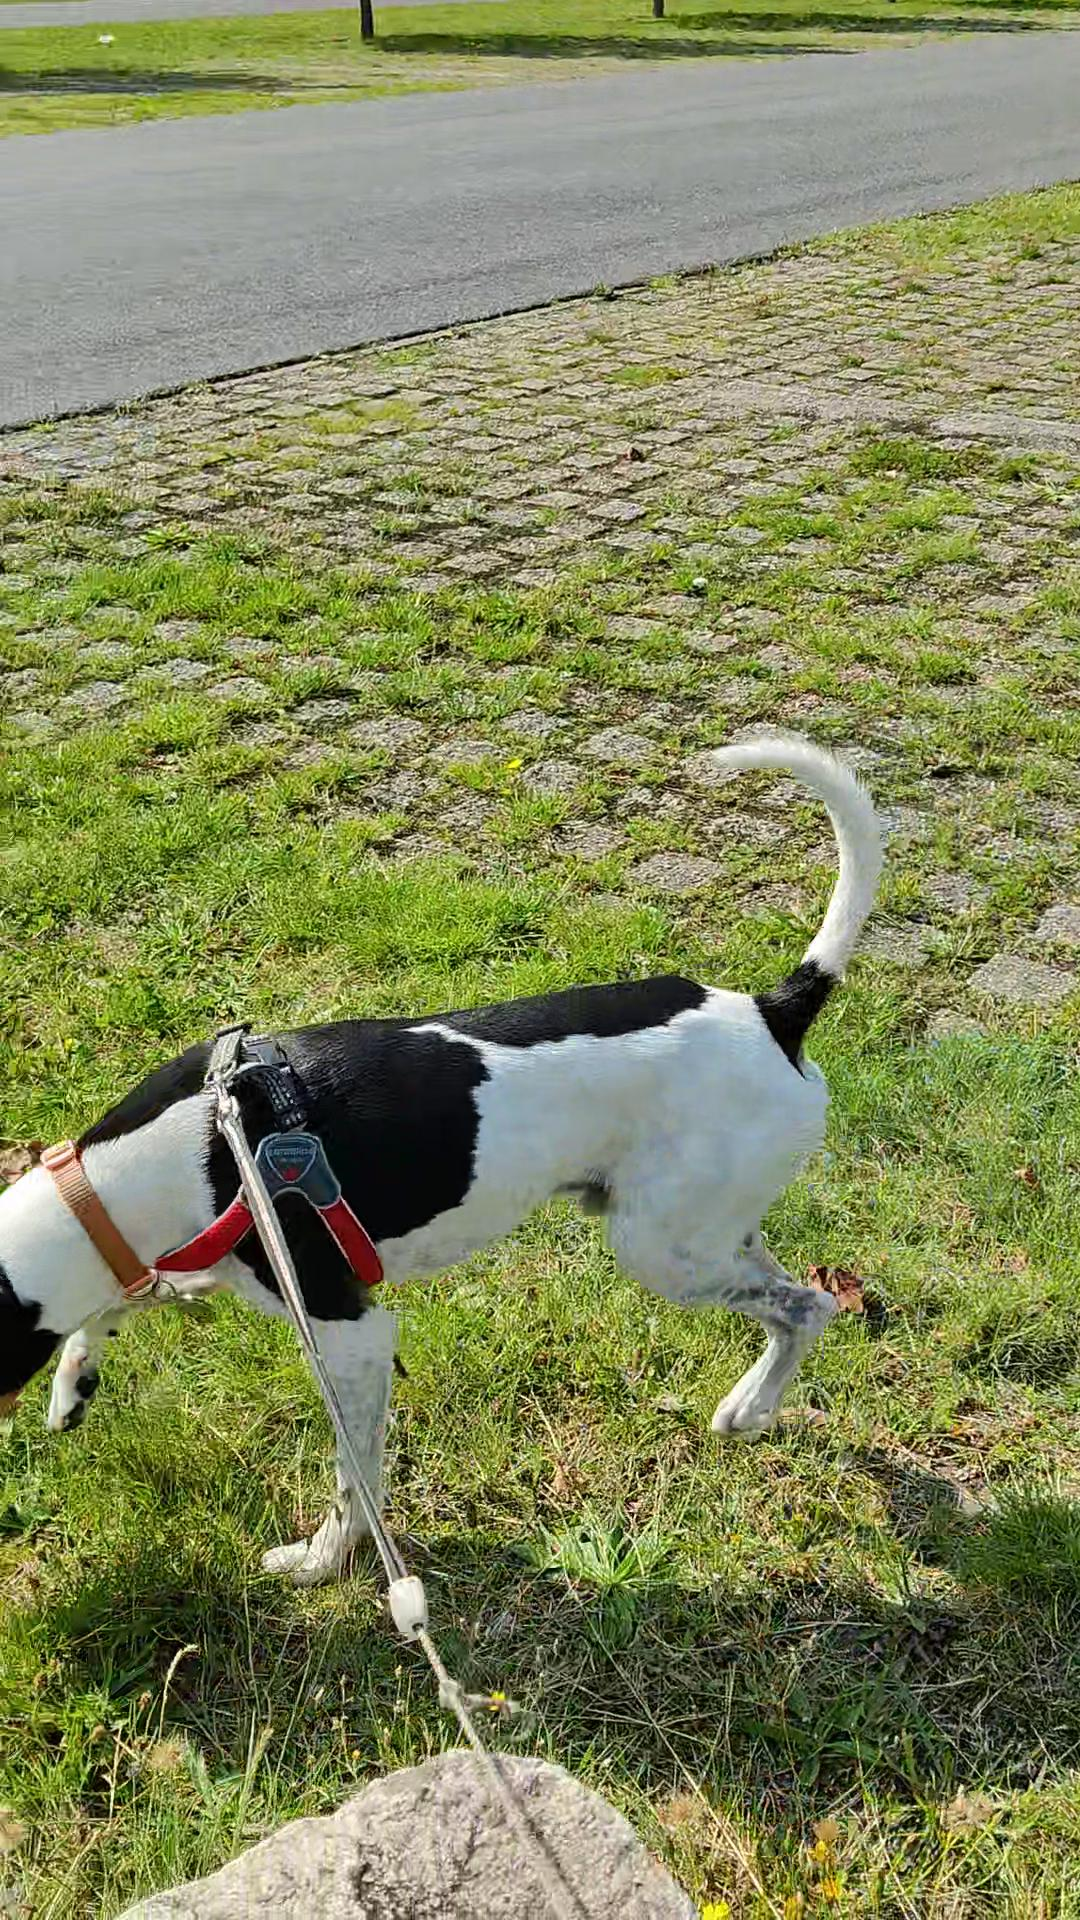Dog: (0, 717, 895, 1619)
